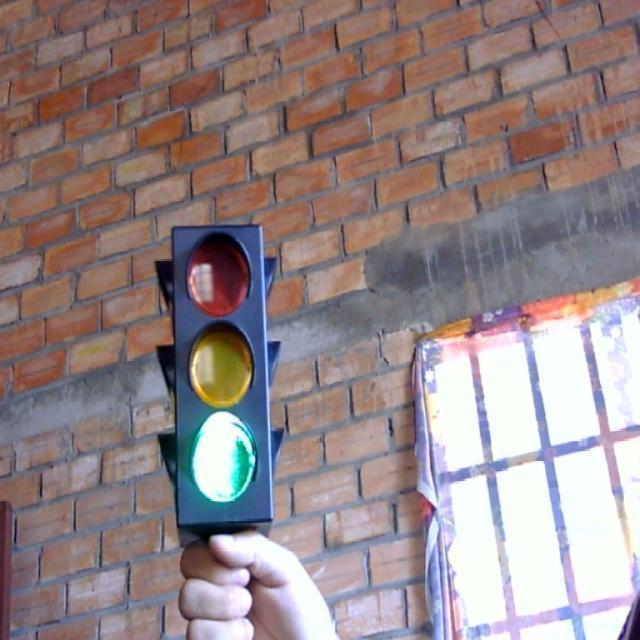green_light: (156, 213, 291, 529)
